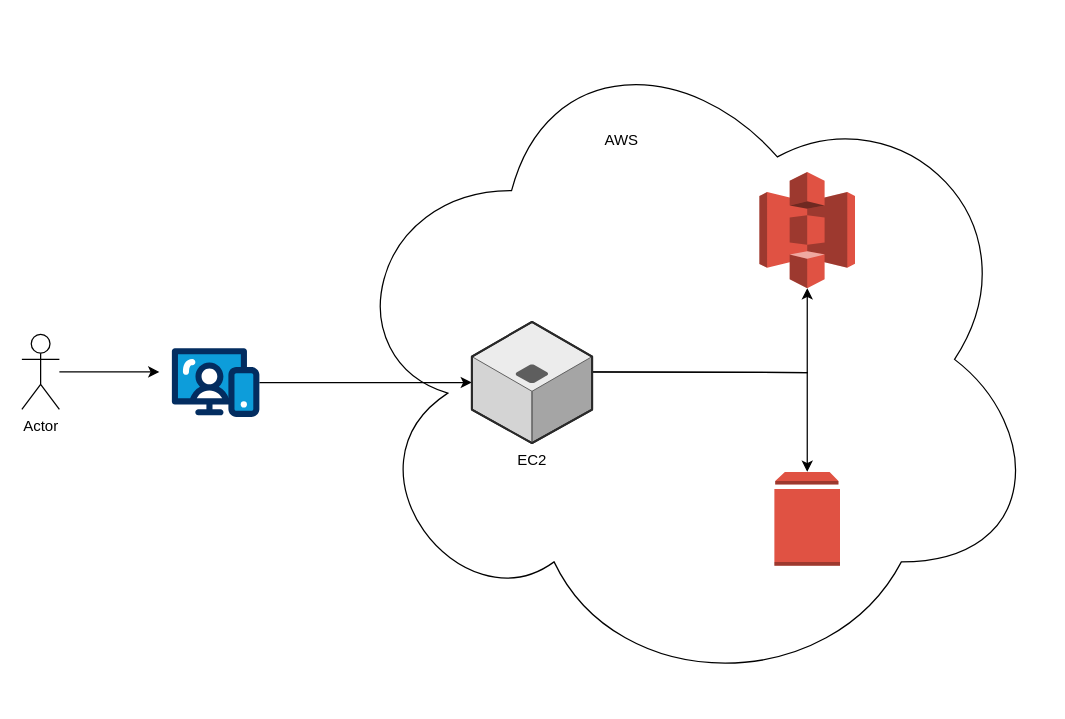
The diagram is 1065 pixels wide and 719 high, and some of its shapes have lost their labels. Here are the shapes that lost their labels. From the top down, the centre of each, then its label:
At (x=806, y=229): "S3".
At (x=806, y=518): "EBS".
